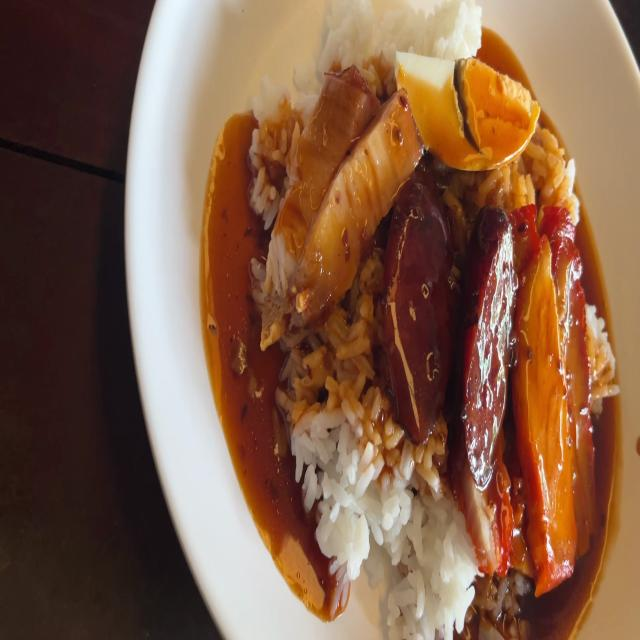01boiled_egg: (398, 45, 537, 162)
01chainese_sausage: (394, 190, 506, 450), (383, 202, 465, 420), (461, 218, 518, 472)
01crispy_pork: (263, 66, 415, 320), (263, 62, 371, 316), (299, 116, 418, 312)
01red_pork: (520, 220, 601, 588), (509, 240, 572, 582), (549, 242, 605, 576)
01red_pork_and_crispy_pork: (240, 0, 622, 640)
01rice: (288, 499, 466, 640), (291, 329, 378, 519), (321, 0, 481, 45)
